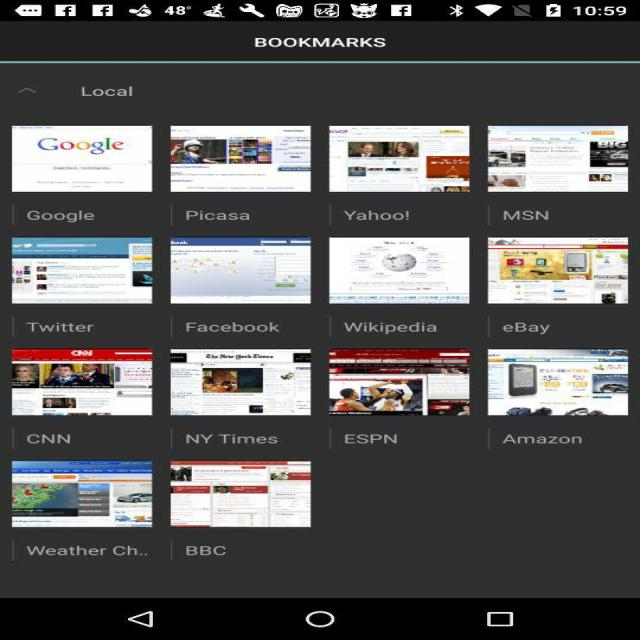button: (10, 125, 640, 567), (6, 79, 64, 109)
text: (222, 34, 536, 66), (66, 77, 170, 102)
